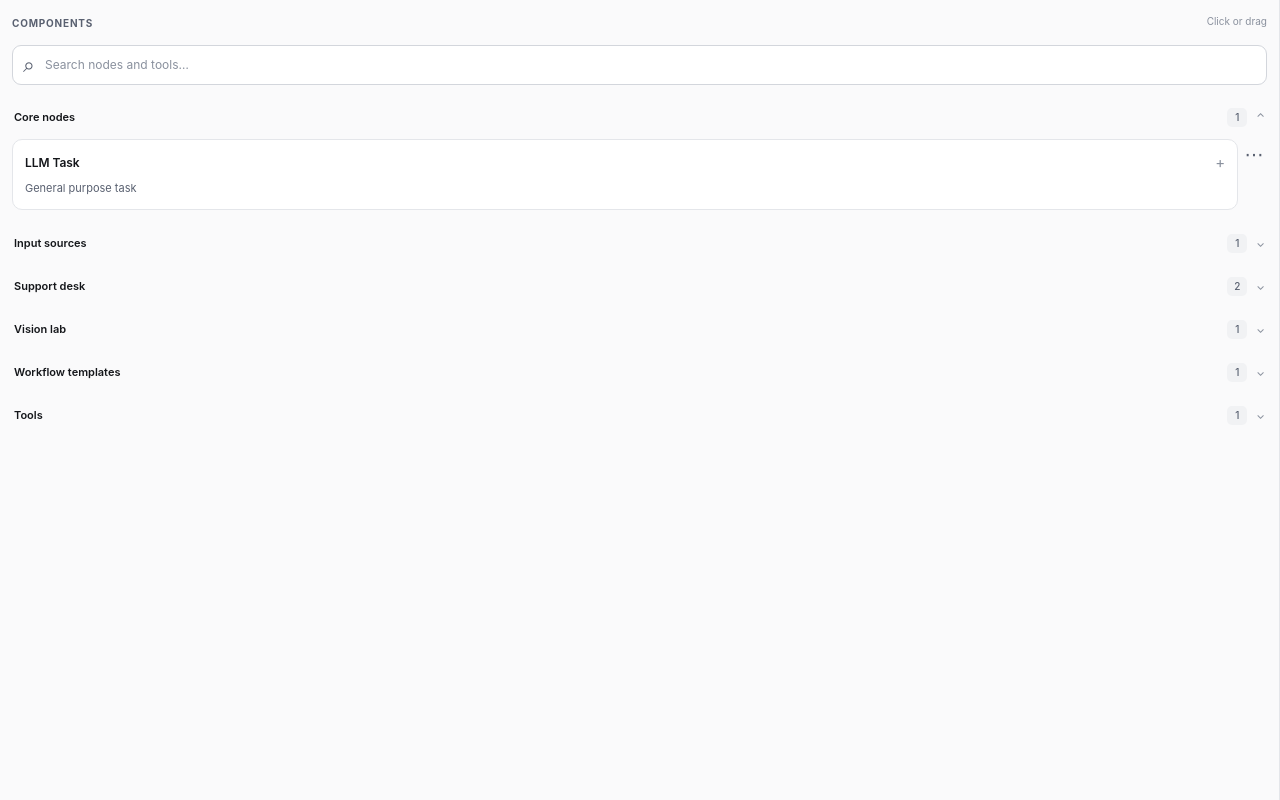
Test: node library hierarchy › never offers an evaluator node: evaluation is written in Evaluate & Evolve
Type "evaluat" into the search field named "Search node library" at (640, 65), box [12,45,1267,85]
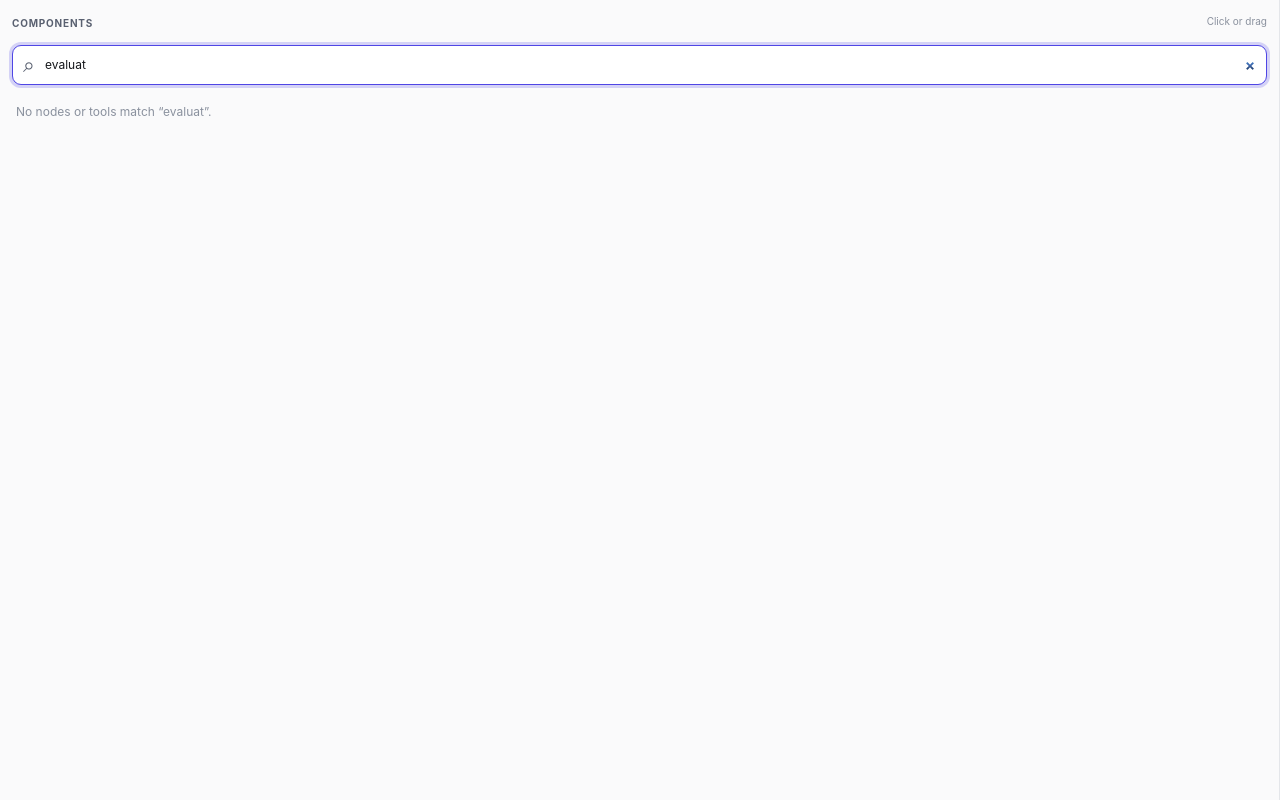
Result: the text "No nodes or tools match “evaluat”." is shown at [16,104,212,119]
